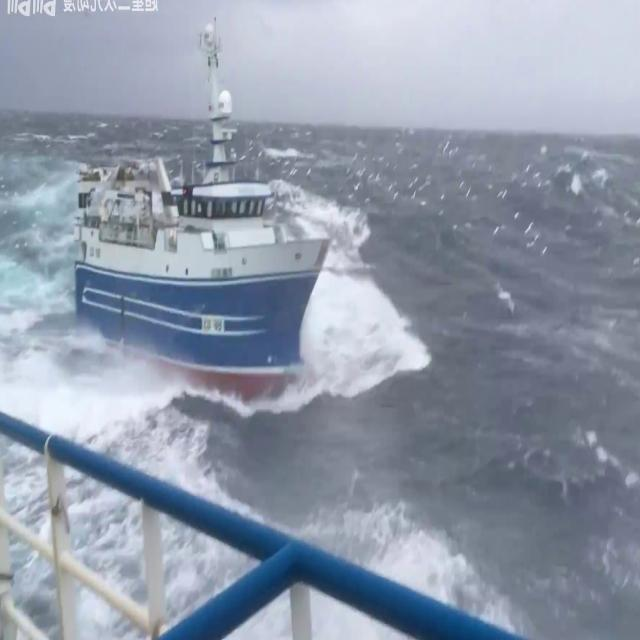houseboat: (59, 63, 324, 410)
